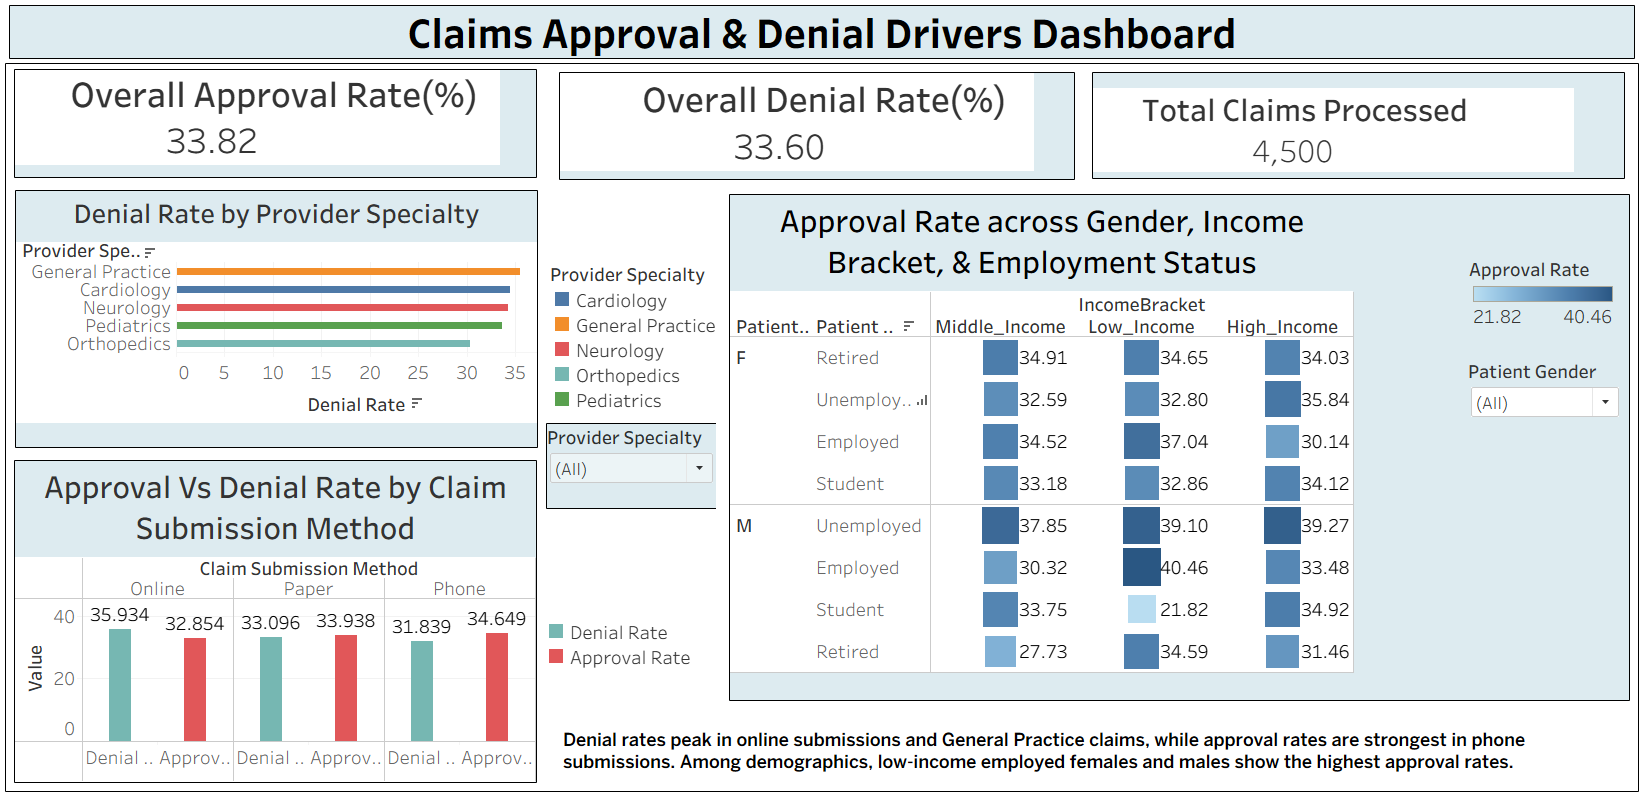

What the dashboard file says about the page in this screenshot:
{"tool":"tableau","page":{"name":"Dashboard 2: Approval & Denial Drivers","canvas":[1000,1000],"units":"permille","ordinal":1},"visuals":[{"type":"title","box":[4.9,9.9,990.3,76.8]},{"type":"worksheet","title":"KPI- Approval Rate","mark":"Automatic","box":[10.3,94.3,317.2,135.2]},{"type":"worksheet","title":"KPI- Denial Rate","mark":"Automatic","box":[340.4,98,312.7,134]},{"type":"worksheet","title":"KPI - Total Claims Processed","mark":"Automatic","box":[663.4,98,323,132.8]},{"type":"worksheet","title":"Qtn 2: Provider Speciality","mark":"Automatic","rows":["ProviderSpecialty"],"cols":["Calculation_1241405014687747"],"box":[11,244.4,317.2,320.1]},{"type":"worksheet","title":"Qtn 3: Patient Demographics","mark":"Automatic","rows":["PatientGender","PatientEmploymentStatus"],"cols":["Calculation_1241404987092993"],"box":[443.8,249.4,545.9,627.8]},{"type":"legend","title":"Qtn 3: Patient Demographics","param":"[federated.0q41bvh03h9eb41fq89sx0d0920t].[usr:Calculation_1241405013393410:qk]","box":[892,326.3,89.9,107.9]},{"type":"legend","title":"Qtn 2: Provider Speciality","param":"[federated.0q41bvh03h9eb41fq89sx0d0920t].[none:ProviderSpecialty:nk]","box":[335.3,332.5,104.7,218.4]},{"type":"filter","title":"Qtn 3: Patient Demographics","param":"[federated.0q41bvh03h9eb41fq89sx0d0920t].[none:PatientGender:nk]","box":[891.3,452.9,93.1,88.1]},{"type":"filter","title":"Qtn 2: Provider Speciality","param":"[federated.0q41bvh03h9eb41fq89sx0d0920t].[none:ProviderSpecialty:nk]","box":[332.7,532.3,103.4,106.7]},{"type":"worksheet","title":"Q1: Submission Method","mark":"Automatic","cols":["ClaimSubmissionMethod"],"box":[10.3,578.2,317.2,400.7]},{"type":"legend","title":"Q1: Submission Method","param":"[federated.0q41bvh03h9eb41fq89sx0d0920t].[:Measure Names]","box":[331.4,775.4,105.9,94.3]}]}

Visuals, with their boxes on the dashboard's canvas, which has no fixed pixel size, in thousandths of its width and height (x1, y1, x2, y2). These are canvas units, not pixel positions in the 1645x793 screenshot, which may show the page scaled, cropped or inside an application window:
title: (5,10,995,87)
"KPI- Approval Rate" worksheet: (10,94,328,230)
"KPI- Denial Rate" worksheet: (340,98,653,232)
"KPI - Total Claims Processed" worksheet: (663,98,986,231)
"Qtn 2: Provider Speciality" worksheet: (11,244,328,564)
"Qtn 3: Patient Demographics" worksheet: (444,249,990,877)
"Qtn 3: Patient Demographics" legend: (892,326,982,434)
"Qtn 2: Provider Speciality" legend: (335,332,440,551)
"Qtn 3: Patient Demographics" filter: (891,453,984,541)
"Qtn 2: Provider Speciality" filter: (333,532,436,639)
"Q1: Submission Method" worksheet: (10,578,328,979)
"Q1: Submission Method" legend: (331,775,437,870)
